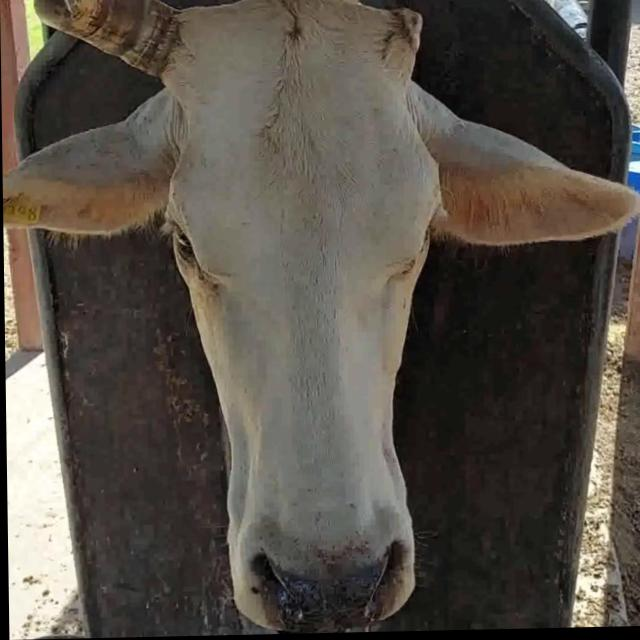cowFace: (169, 0, 452, 627)
